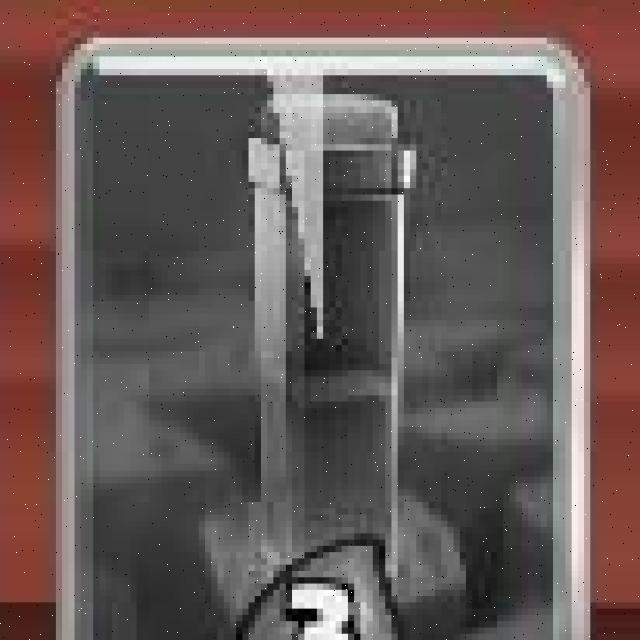Earthquake: (49, 29, 595, 640)
